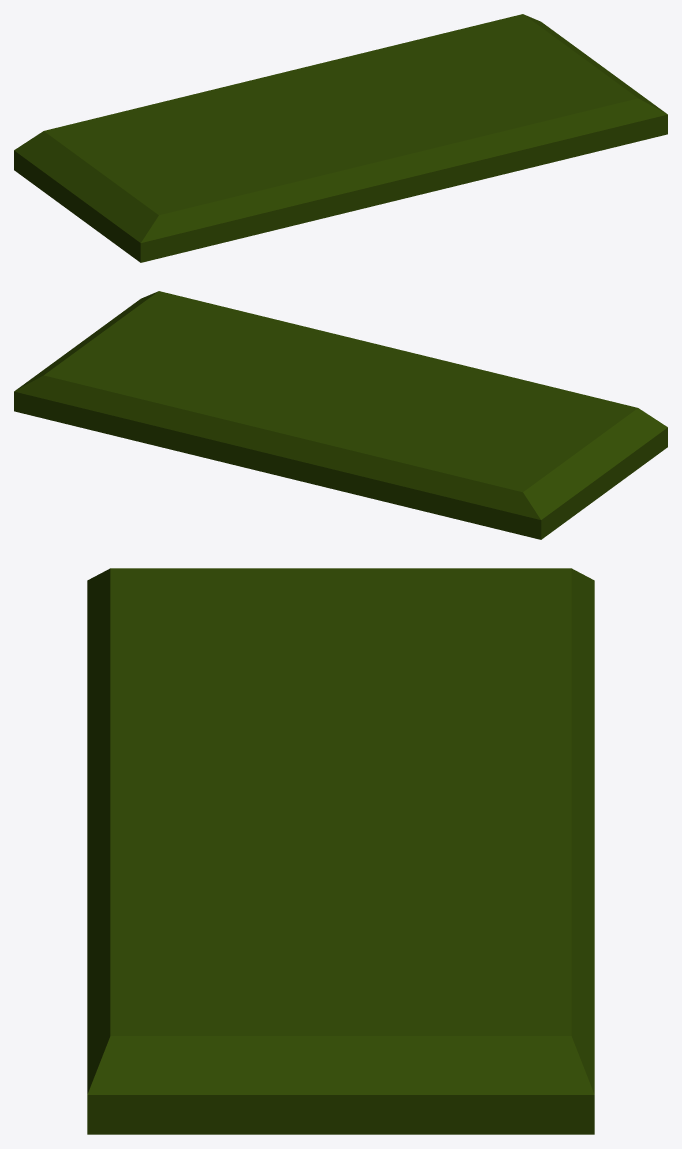
The model's file is submit button outside.fbx.
3 renders of one model, top to bottom at view 1: azimuth 30°, elevation 25°; view 2: azimuth 150°, elevation 25°; view 3: azimuth 270°, elevation 25°, orthographic. The views are drawn at different scales.
Visible parts, largest first — view 1: Cube.001; view 2: Cube.001; view 3: Cube.001.
Boxes of the visible parts, bbox=[...] form: Cube.001: bbox=[14, 14, 667, 262]; Cube.001: bbox=[14, 291, 667, 539]; Cube.001: bbox=[87, 568, 594, 1134].
Bounding box in the file's own units: 1452 × 98.91 × 605.
